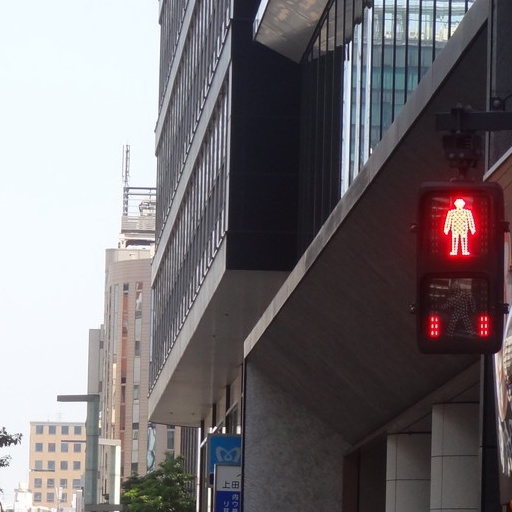Pedestrian_Signal_Red: (419, 172, 501, 352)
